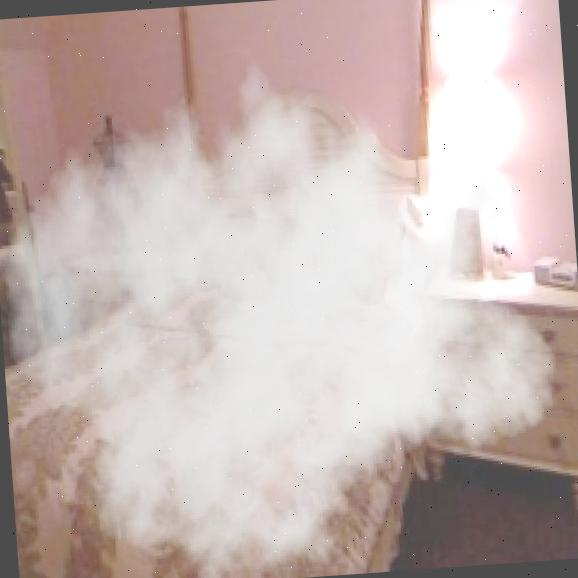smoke: (0, 17, 573, 578)
